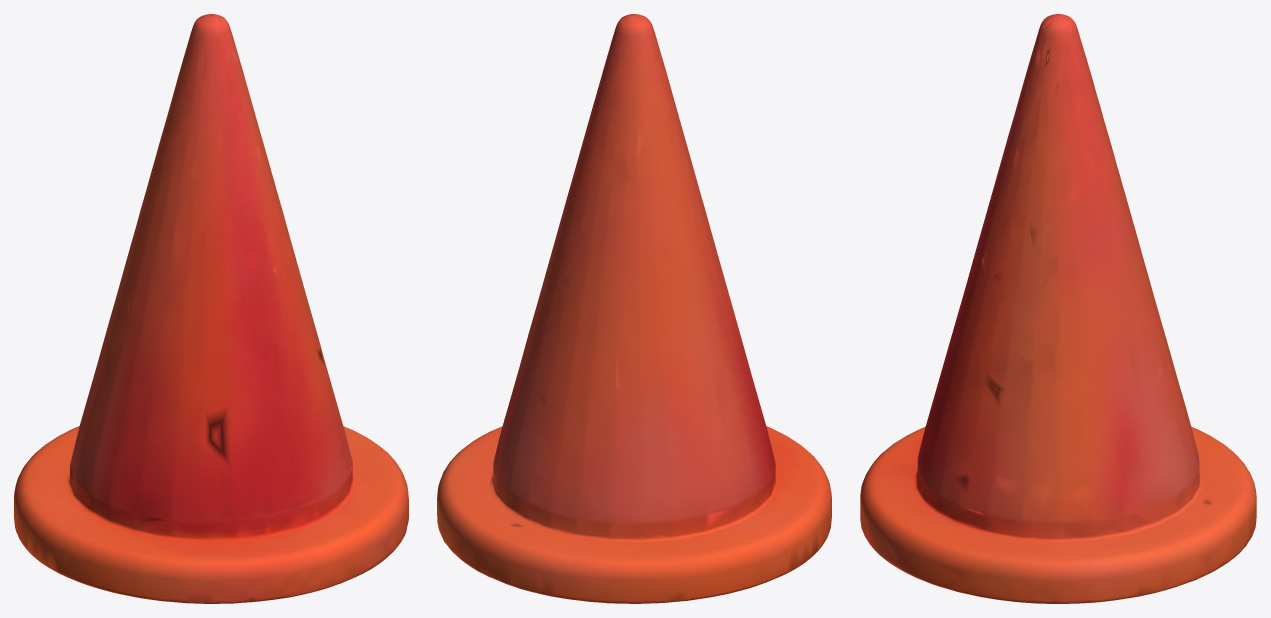
Rendered from obstacle_spikes.glb.
3 renders of one model, left to right at view 1: azimuth 30°, elevation 25°; view 2: azimuth 150°, elevation 25°; view 3: azimuth 270°, elevation 25°, orthographic.
Parts seen in each view (by area): view 1: model; view 2: model; view 3: model.
Boxes of the visible parts, left/top/right/bottom form: model: left=14, top=14, right=408, bottom=603; model: left=437, top=14, right=831, bottom=603; model: left=860, top=14, right=1256, bottom=603.
Bounding box in the file's own units: 1.35 × 1.9 × 1.35.
Materials: 1 (1 with a texture image).
